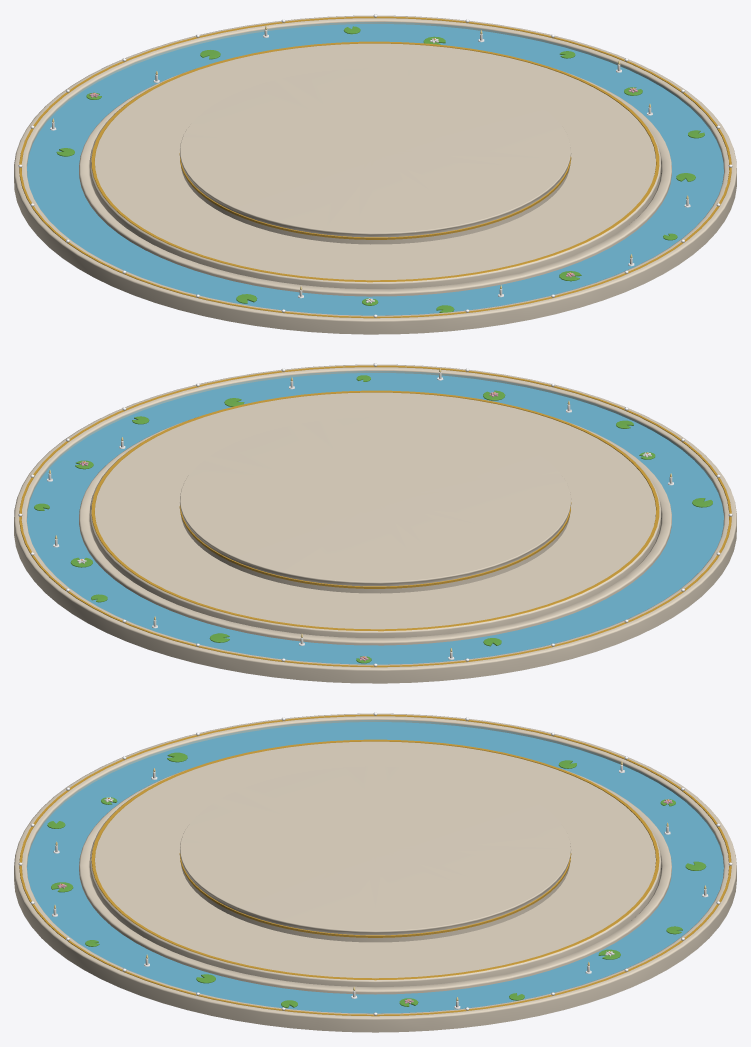
Rendered from agent_plaza.glb.
The picture shows the model from 3 angles, top to bottom: view 1: azimuth 30°, elevation 25°; view 2: azimuth 150°, elevation 25°; view 3: azimuth 270°, elevation 25°; orthographic projection.
Visible parts, largest first — view 1: agent_plaza_structure, water; view 2: agent_plaza_structure, water; view 3: agent_plaza_structure, water.
Boxes of the visible parts, x1,y1,x2,y2 form: agent_plaza_structure: (14,14,736,334); water: (27,24,723,315); agent_plaza_structure: (14,363,736,683); water: (27,373,723,664); agent_plaza_structure: (14,712,736,1032); water: (27,722,723,1013).
Size of the model in its own units: 16.7 by 0.8 by 16.7.
